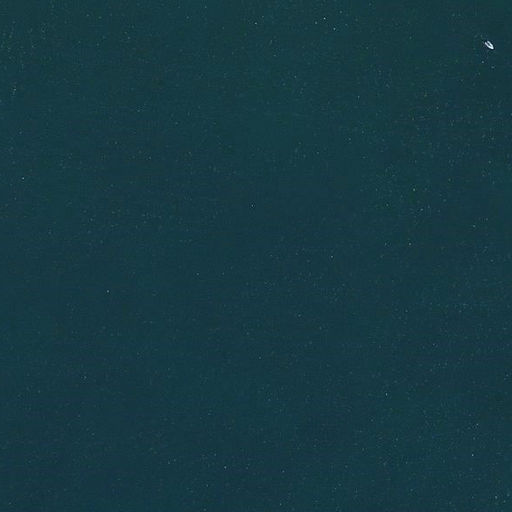ship: (483, 39, 496, 52)
